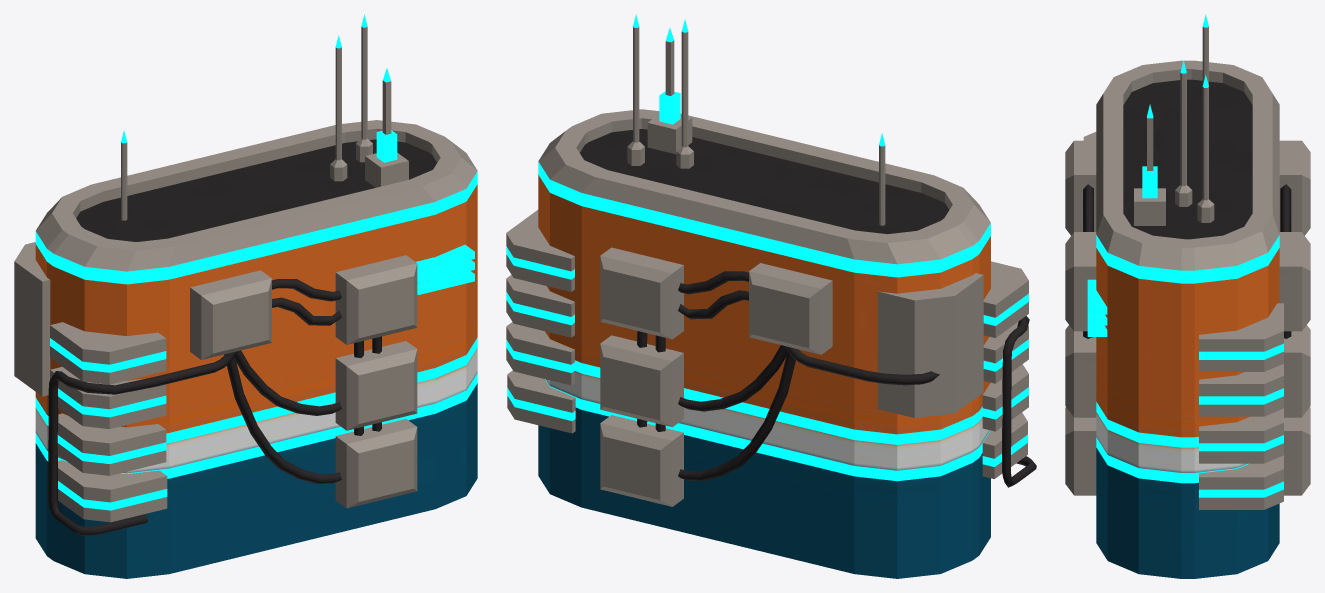
File: BuildingSmall.fbx
3 views of the same model, side by side, from view 1: azimuth 30°, elevation 25°; view 2: azimuth 150°, elevation 25°; view 3: azimuth 270°, elevation 25° (orthographic). The views are drawn at different scales.
Parts seen in each view (by area): view 1: predio2; view 2: predio2; view 3: predio2.
Boxes of the visible parts, bbox=[...] form: predio2: bbox=[14, 14, 477, 578]; predio2: bbox=[506, 14, 1036, 578]; predio2: bbox=[1065, 14, 1310, 578].
Size of the model in its own units: 744 by 744 by 359.
